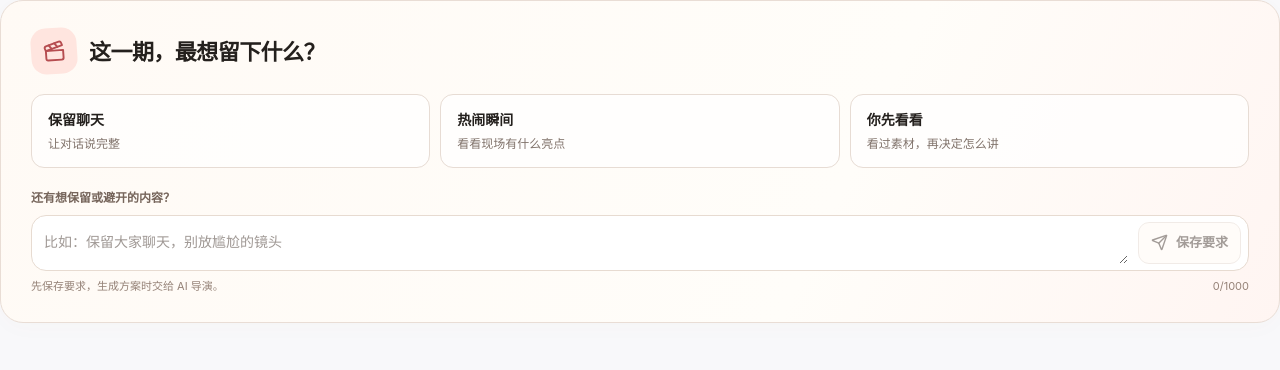
Test: persistent director guide › keeps text on failed save, marks it dirty, and clears only after a successful retry
In the text box labelled "还有想保留或避开的内容？": (586, 243) [44, 222, 1128, 264], type "保留聊天，别放尴尬镜头。"
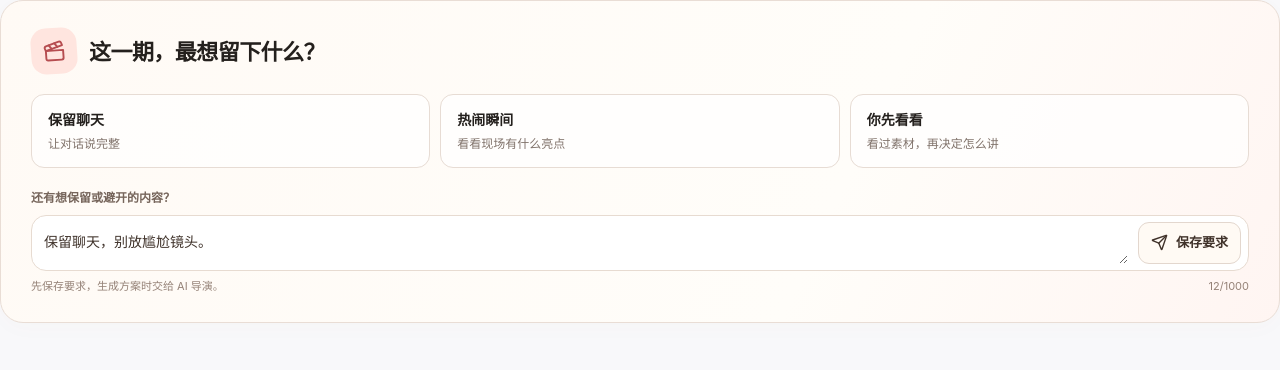
Click the button with aria-label "保存导演要求": click(1190, 243) [1138, 222, 1241, 264]
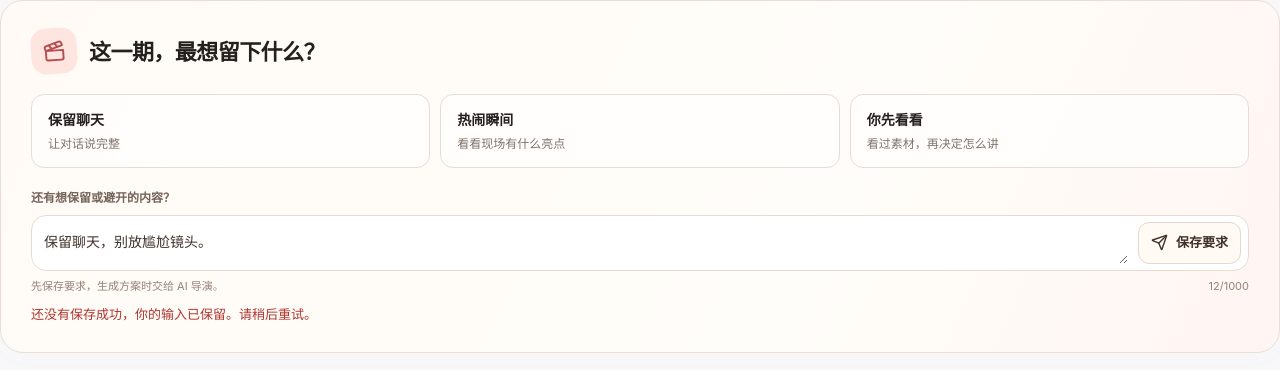
expect the message "还没有保存成功，你的输入已保留。请稍后重试。" is shown: met, box [31, 306, 317, 322]
Click the button with aria-label "保存导演要求": click(1190, 243) [1138, 222, 1241, 264]
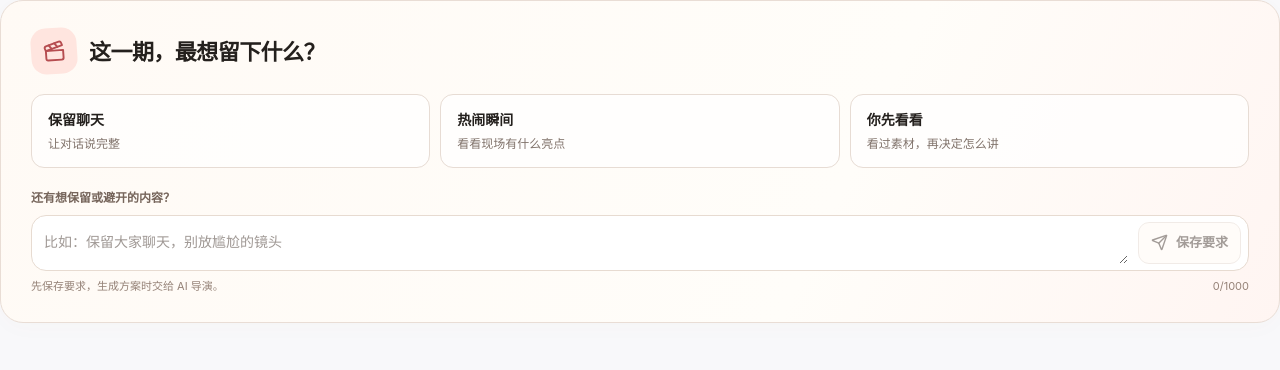
expect the text box labelled "还有想保留或避开的内容？" is empty: met, box [44, 222, 1128, 264]
